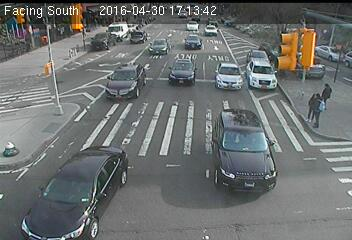neg: (46, 171, 77, 213), (183, 176, 211, 213), (112, 135, 138, 171), (173, 32, 198, 66), (250, 159, 275, 193), (107, 34, 131, 66), (70, 45, 91, 73), (38, 58, 59, 85), (189, 113, 209, 140), (43, 114, 63, 141), (4, 137, 22, 161)
pos: (313, 93, 338, 126), (295, 92, 317, 120), (321, 80, 339, 104)
